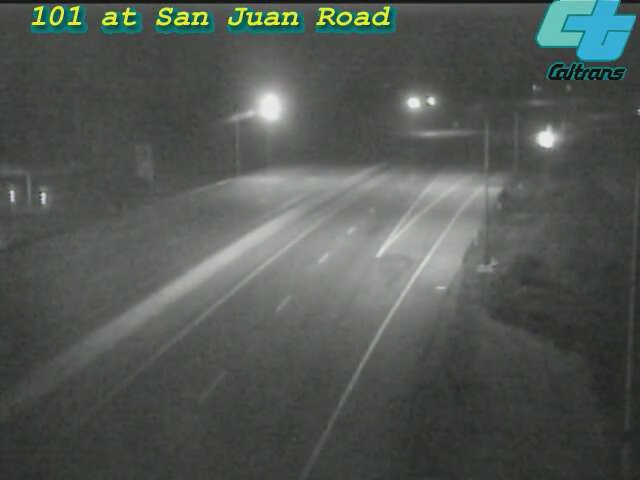vehicle: (520, 114, 570, 164)
